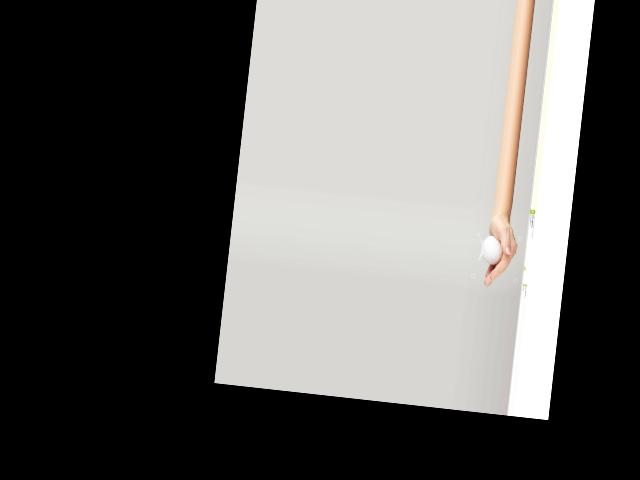egg: (481, 234, 504, 266)
